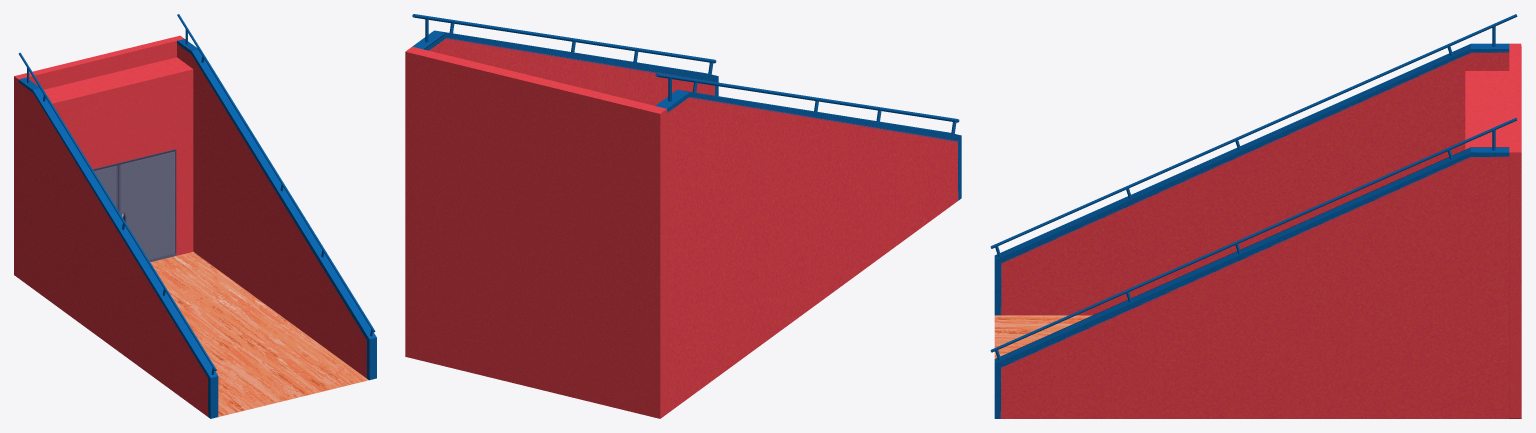
The model's file is Exit_4_Ufa.FBX.
3 views of the same model, side by side, from view 1: azimuth 30°, elevation 25°; view 2: azimuth 150°, elevation 25°; view 3: azimuth 270°, elevation 25° (orthographic). The views are drawn at different scales.
Visible parts, largest first — view 1: Exit_4_Ufa; view 2: Exit_4_Ufa; view 3: Exit_4_Ufa.
Boxes of the visible parts, <box> form: Exit_4_Ufa: <box>14,14,376,418</box>; Exit_4_Ufa: <box>405,14,961,418</box>; Exit_4_Ufa: <box>990,14,1521,418</box>.
Bounding box in the file's own units: 3.18 × 4.08 × 6.57.
